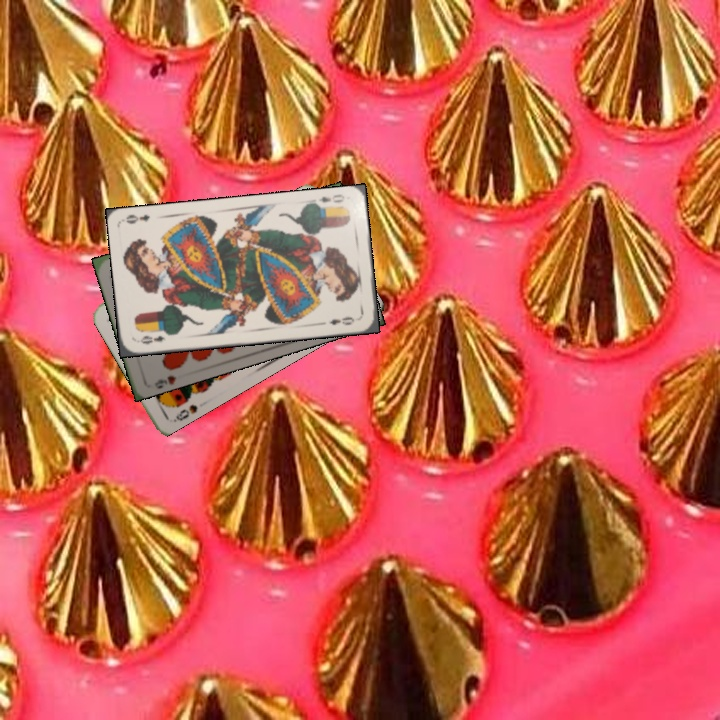EO: (134, 328, 174, 347), (314, 190, 347, 205)
H9: (150, 371, 179, 390)
S8: (169, 400, 200, 425)
